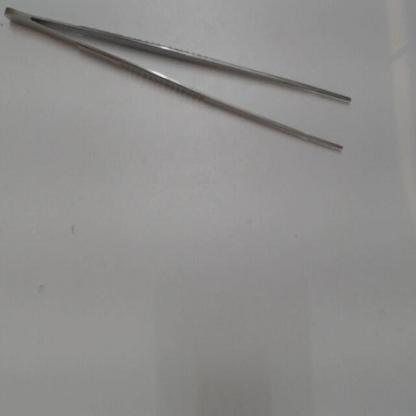DeBakey Dissector: (3, 6, 368, 182)
